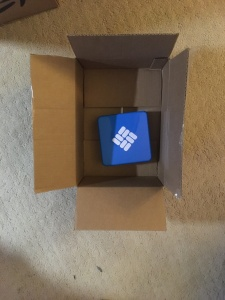innerbox: (76, 59, 163, 186)
outerbox: (32, 34, 183, 234)
product: (98, 113, 152, 166)
